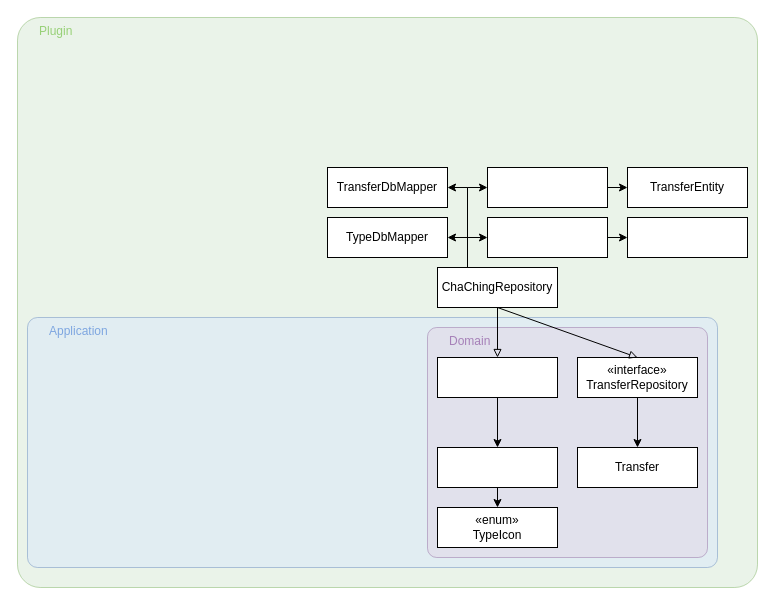
This 775x605 diagram has some shape labels left out. Each missing label, with the centre of its shape:
TransferDAO: point 547,187
Type: point 497,467
TypeDAO: point 547,237
TypeEntity: point 687,237
«interface» TypeRepository: point 497,377
